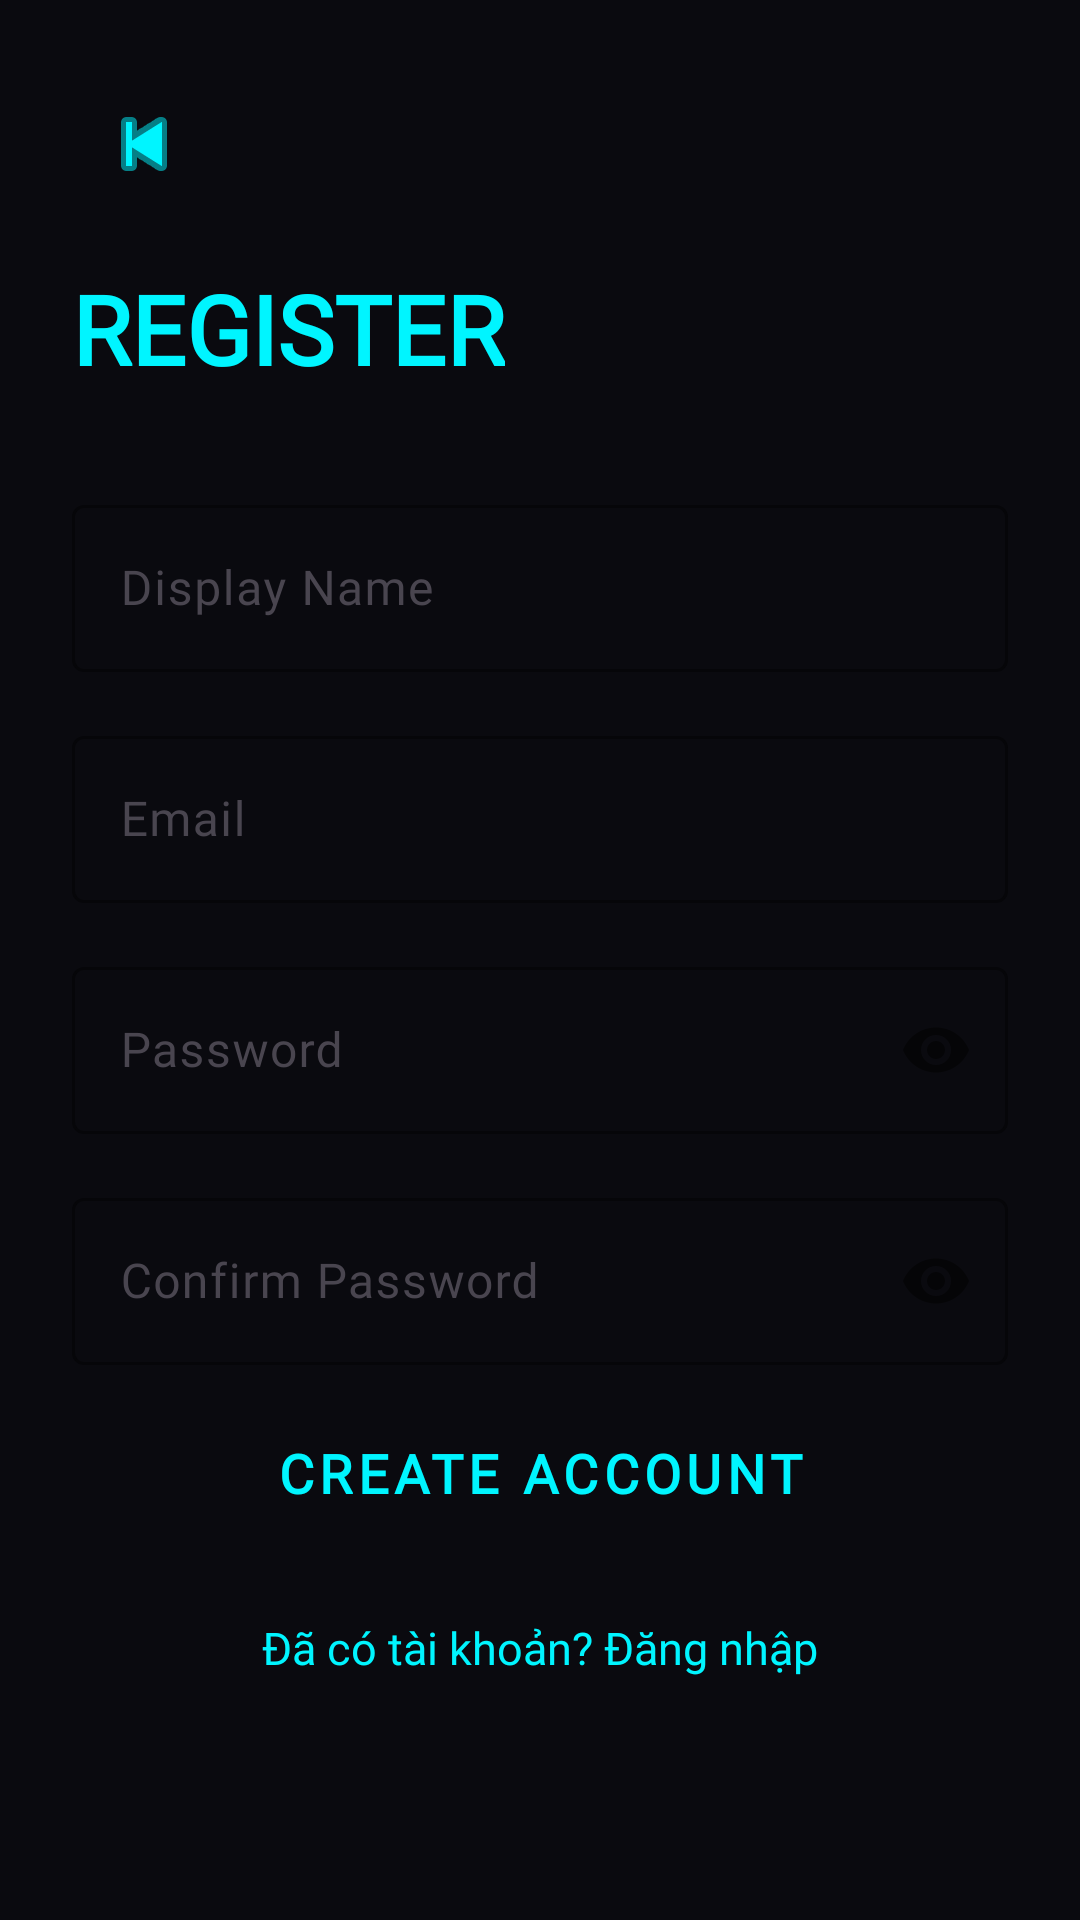

Icon click points for this 1080 x 1920 phone screenshot, format (x,y):
Back: (144,144)
